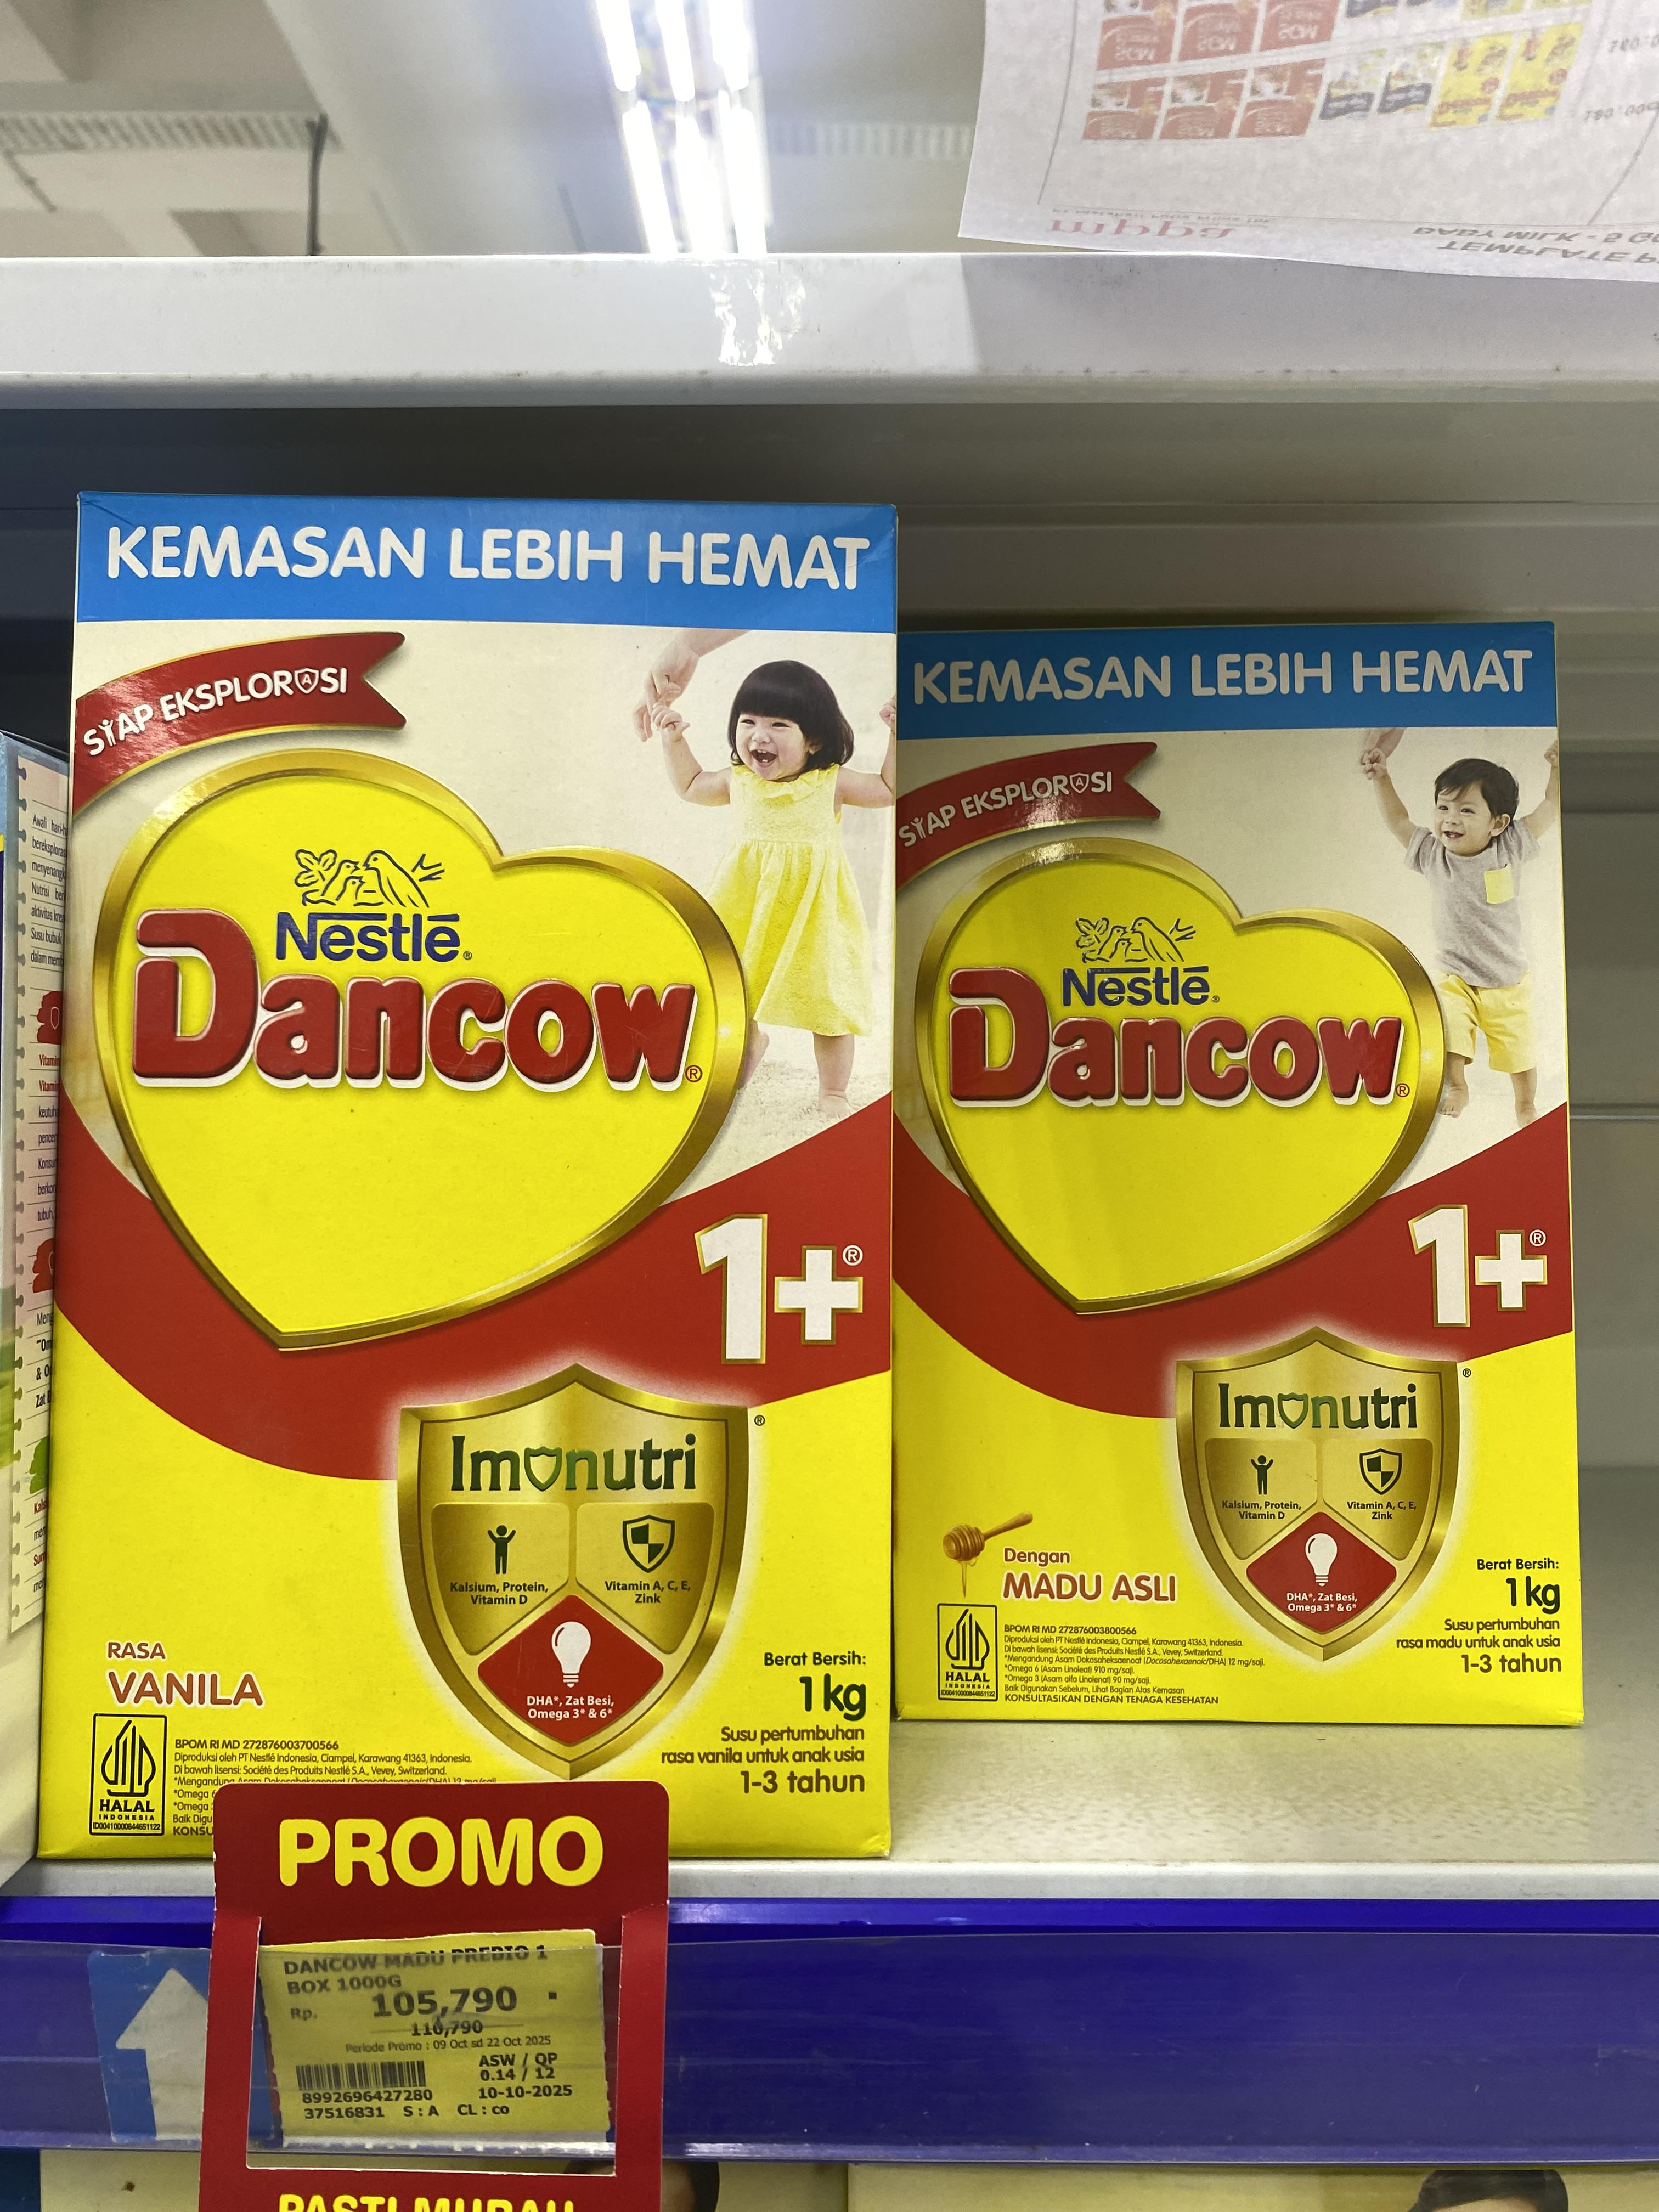DANCOW 1+ Madu Advn ExcNutr 12x1000g N1 ID_REDESIGN3: (896, 723, 1570, 1724)
